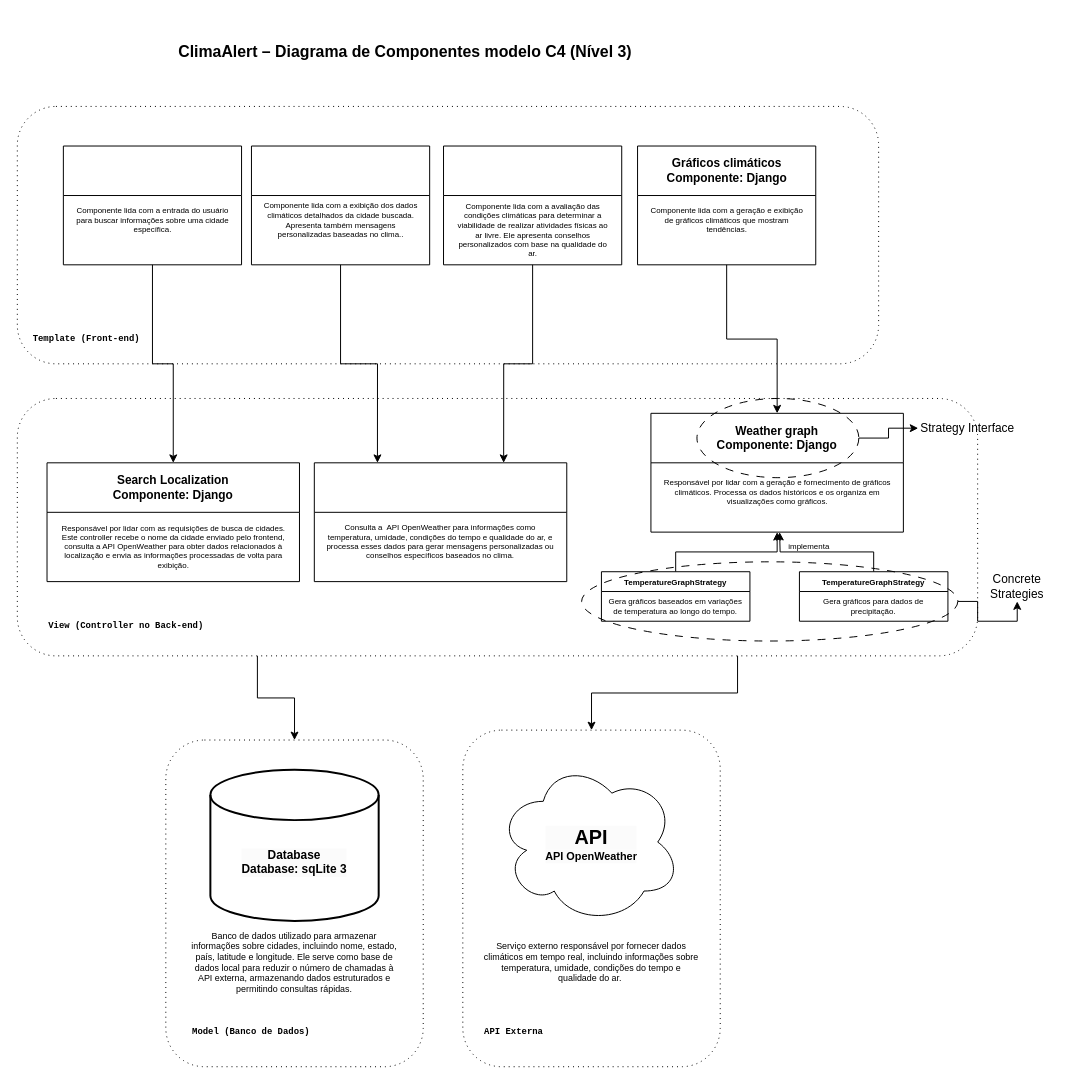
The diagram is 1084 pixels wide and 1084 high, and some of its shapes have lost their labels. Here are the shapes that lost their labels. From the top down, the box of each, then its label:
(62, 145, 242, 265): Campo busca de cidade Componente: Django
(250, 145, 430, 265): Detalhes do tempo Componente: Django
(443, 145, 622, 265): Atividade ao ar livre componente: Django
(313, 462, 567, 582): Weather data Componente: Django
